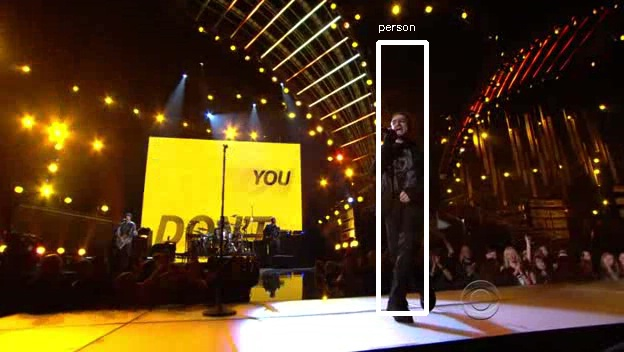person: (371, 114, 436, 222), (368, 114, 433, 222), (374, 114, 439, 222), (371, 111, 436, 219), (371, 117, 436, 225)
target_negative: (295, 106, 565, 328), (169, 266, 530, 320), (272, 188, 318, 338), (14, 201, 288, 225), (570, 205, 615, 338), (359, 274, 376, 290)
